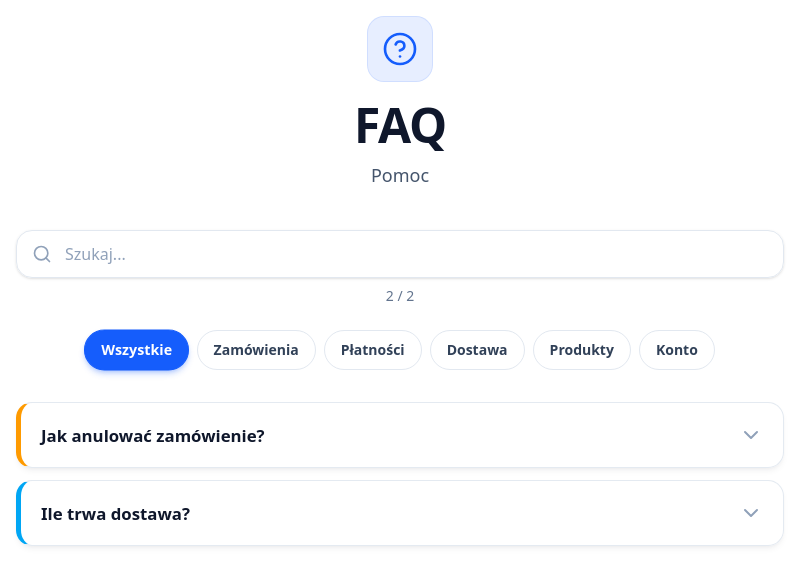
Scenario: FaqPage Unit Tests › powinien wyszukiwać pytania po wpisanym tekście
This screenshot has width=801, height=565.
In the search field with placeholder "Szukaj...": (400, 254) [16,230,784,278], type "anulować"
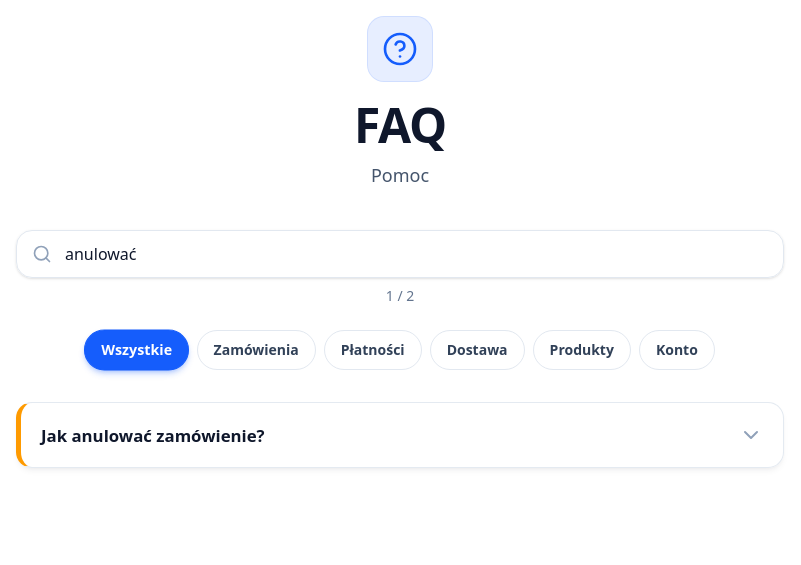
Expected: the text "Jak anulować zamówienie?" is shown, [41,424,273,447]
Now the button "Ile trwa dostawa?" is gone
